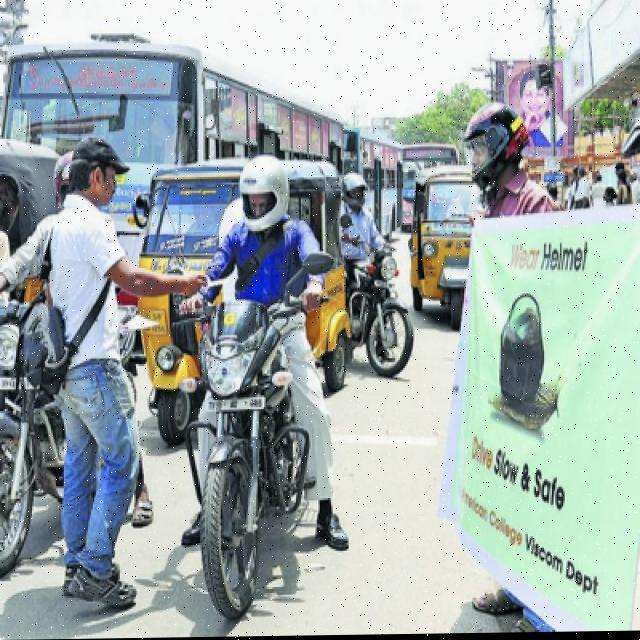Helmet: (454, 97, 536, 196), (225, 142, 298, 236)
